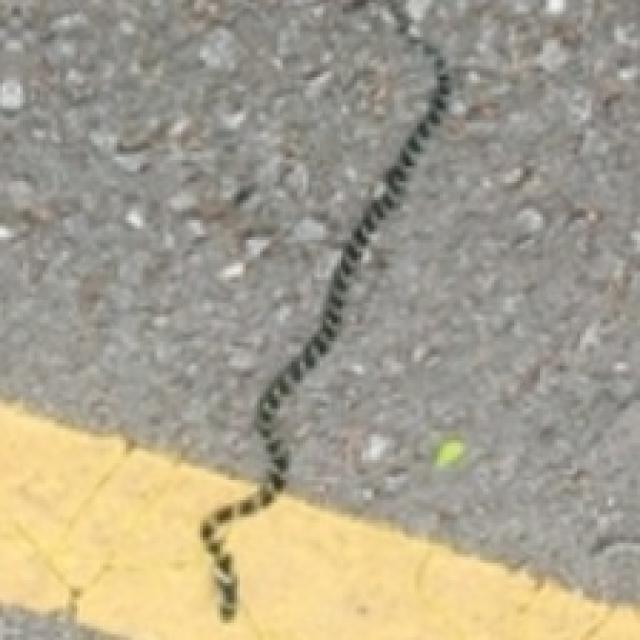king cobra: (200, 0, 449, 617)
